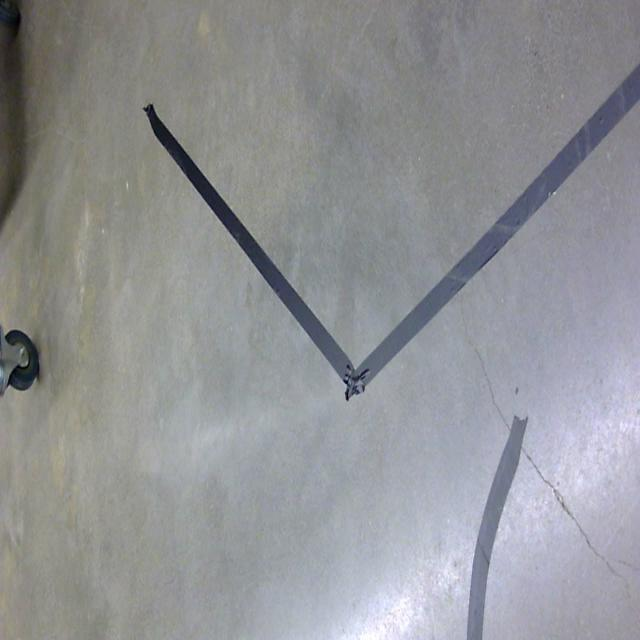tape: (144, 63, 640, 401), (464, 415, 526, 640)
